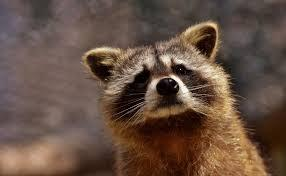raccoon: (67, 5, 286, 176)
